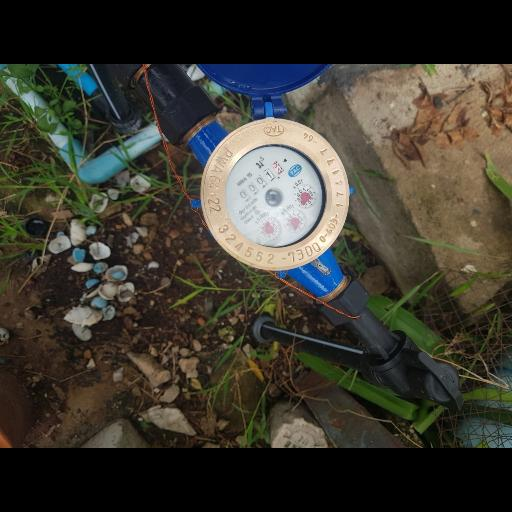0: (236, 188, 252, 204), (254, 174, 269, 190), (244, 181, 254, 197)
1: (262, 166, 277, 182)
3: (269, 159, 286, 177)
border_water_meter_number: (232, 155, 290, 208)
